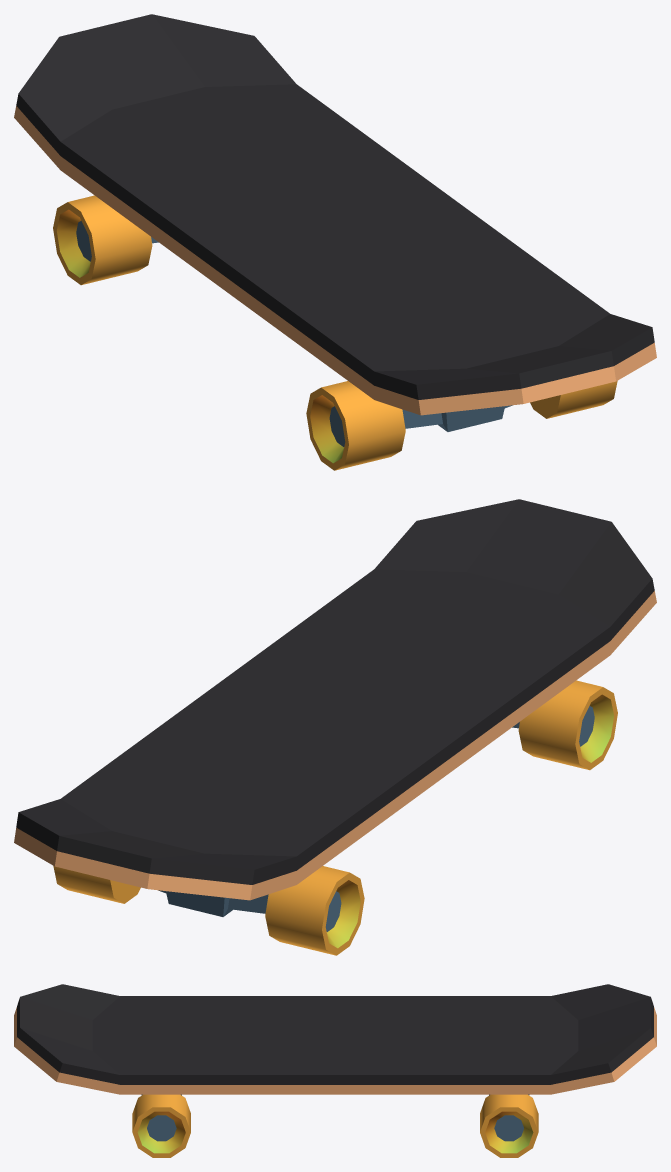
File: Skateboard.fbx
The picture shows the model from 3 angles, top to bottom: view 1: azimuth 30°, elevation 25°; view 2: azimuth 150°, elevation 25°; view 3: azimuth 270°, elevation 25°; orthographic projection. The views are drawn at different scales.
Visible parts, largest first — view 1: Board, Wheel.003, Wheel.001, Wheel.002; view 2: Board, Wheel.001, Wheel.003, Wheel; view 3: Board, Wheel, Wheel.002.
Boxes of the visible parts, box(x1,y1,x2,y2) form: Board: box(14, 14, 656, 431); Wheel.003: box(306, 381, 405, 470); Wheel.001: box(53, 195, 152, 285); Wheel.002: box(530, 381, 617, 418); Board: box(14, 499, 656, 916); Wheel.001: box(265, 866, 364, 955); Wheel.003: box(518, 680, 617, 770); Wheel: box(53, 866, 140, 903); Board: box(14, 984, 656, 1095); Wheel: box(480, 1094, 538, 1157); Wheel.002: box(132, 1094, 190, 1157).
Bounding box in the file's own units: 10.9 × 5.68 × 32.92.
